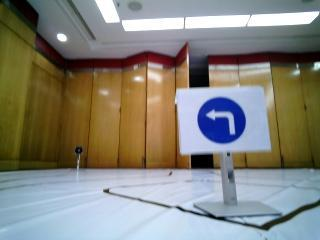left: (179, 90, 267, 152)
